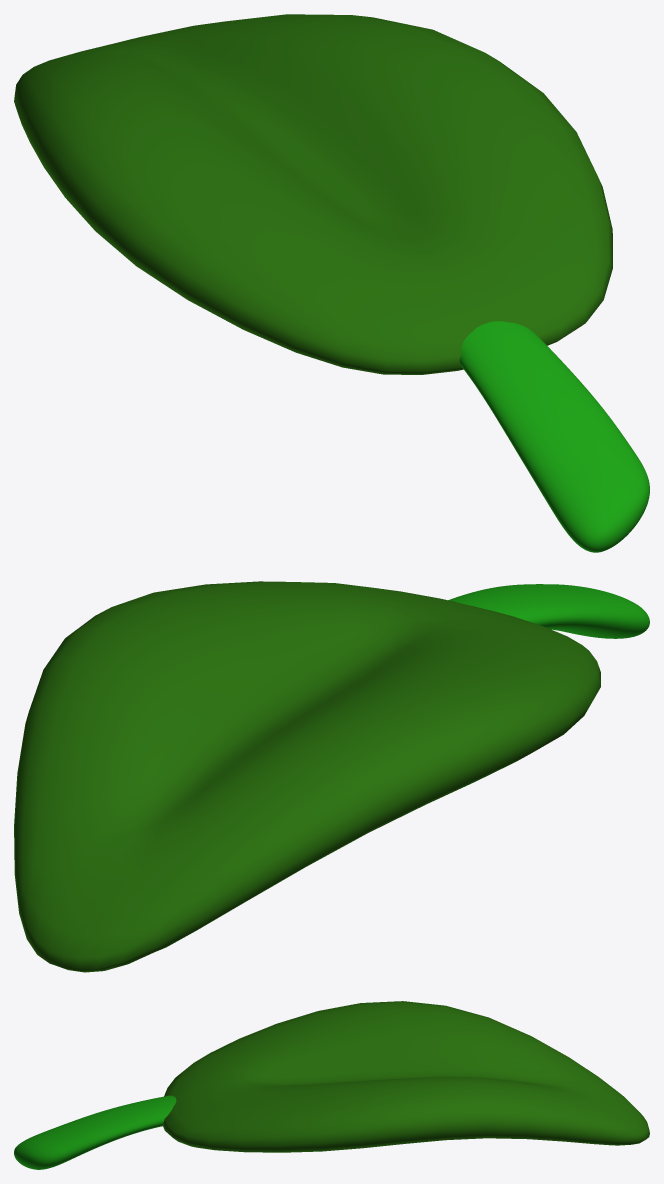
Rendered from leaf-3.fbx.
3 renders of one model, top to bottom at view 1: azimuth 30°, elevation 25°; view 2: azimuth 150°, elevation 25°; view 3: azimuth 270°, elevation 25°, orthographic. The views are drawn at different scales.
Visible parts, largest first — view 1: Plane; view 2: Plane; view 3: Plane.
Part boxes in pixels (x1=…): Plane: x1=14, y1=14, x2=649, y2=552; Plane: x1=14, y1=581, x2=649, y2=972; Plane: x1=14, y1=1001, x2=649, y2=1169.
Bounding box in the file's own units: 28.48 × 12.37 × 60.77.
